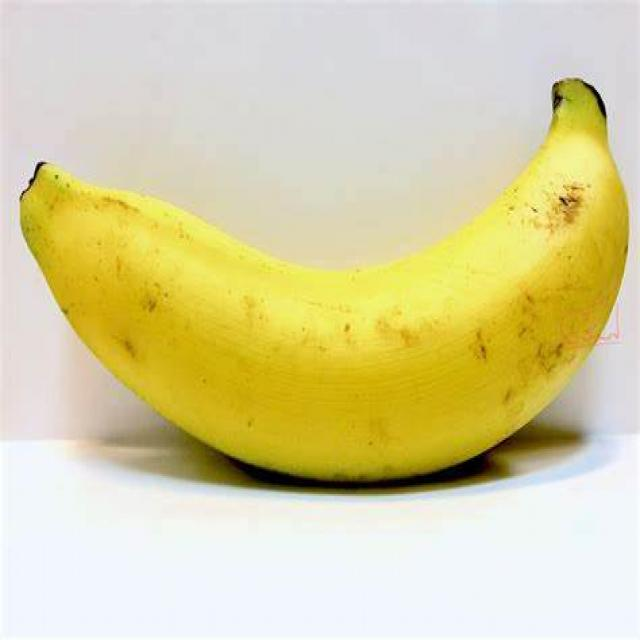Banana: (11, 80, 640, 493)
